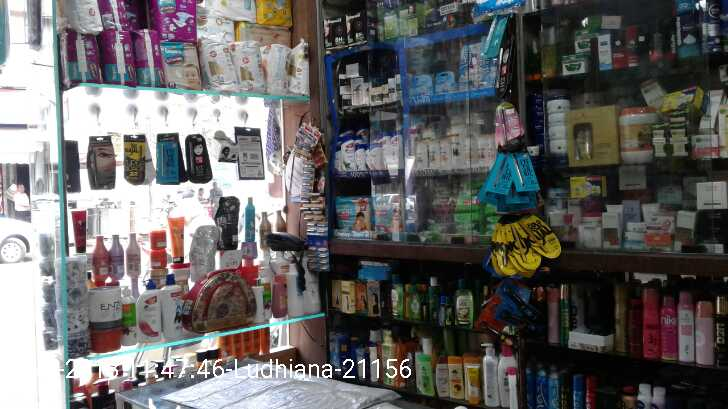venus: (459, 41, 480, 92), (412, 72, 430, 95), (433, 72, 454, 91)
